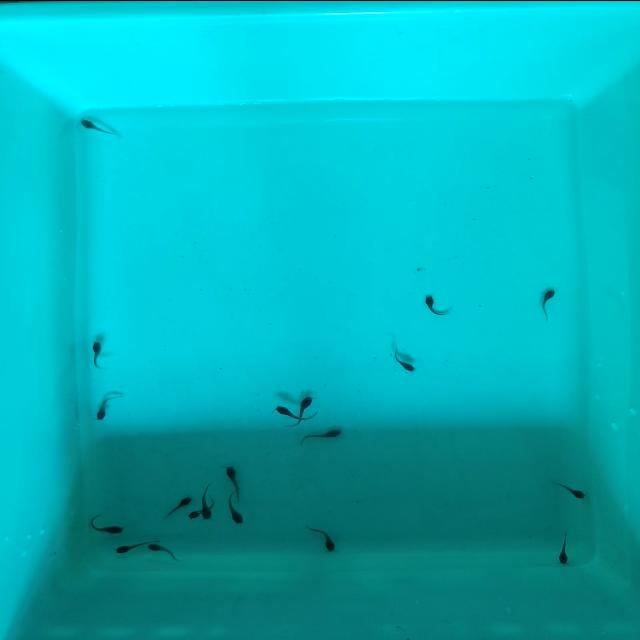lele: (266, 400, 316, 425), (296, 425, 349, 448), (77, 115, 121, 140), (289, 392, 317, 428), (385, 348, 421, 376), (115, 535, 166, 554), (549, 478, 589, 502), (87, 513, 126, 537), (223, 462, 245, 503), (536, 283, 561, 317), (418, 292, 448, 320), (310, 524, 338, 554), (94, 390, 120, 422), (164, 494, 195, 517), (227, 491, 245, 525), (555, 528, 571, 566), (186, 501, 214, 520), (147, 542, 180, 558), (201, 481, 212, 520), (91, 338, 103, 369)
